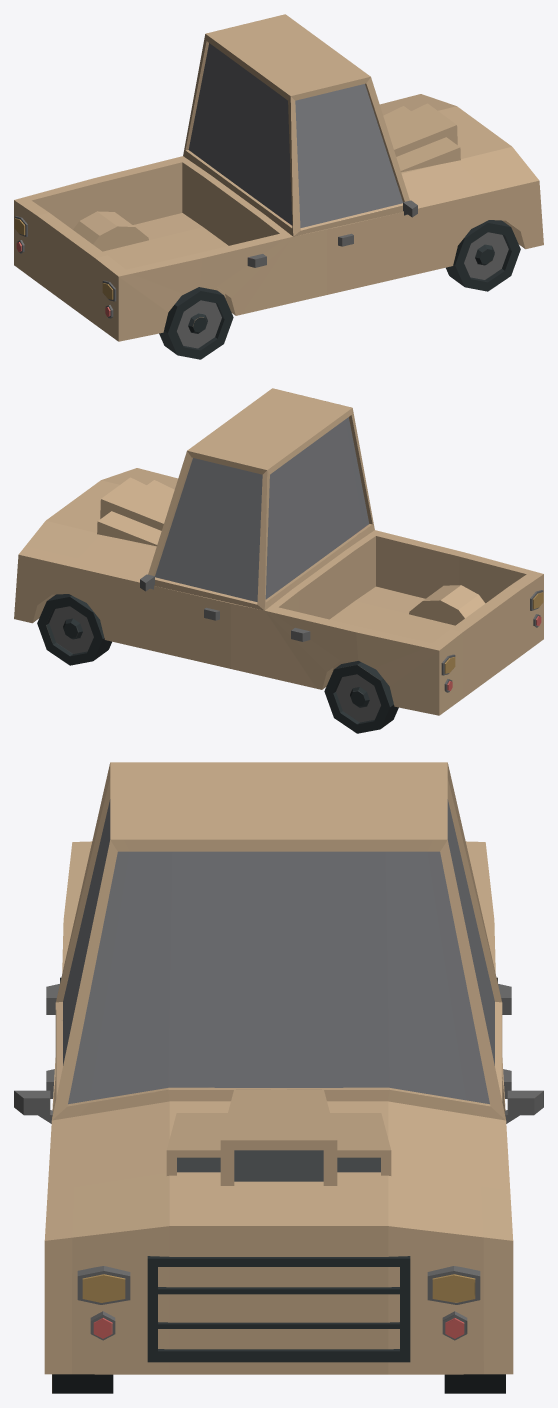
File: SmallBrownCar.fbx
3 renders of one model, top to bottom at view 1: azimuth 30°, elevation 25°; view 2: azimuth 150°, elevation 25°; view 3: azimuth 270°, elevation 25°, orthographic. The views are drawn at different scales.
Visible parts, largest first — view 1: BrownCar; view 2: BrownCar; view 3: BrownCar.
Boxes of the visible parts, x1,y1,x2,y2 form: BrownCar: (14, 14, 543, 359); BrownCar: (14, 388, 543, 733); BrownCar: (14, 762, 543, 1393).
Size of the model in its own units: 103 by 52.83 by 56.04.
